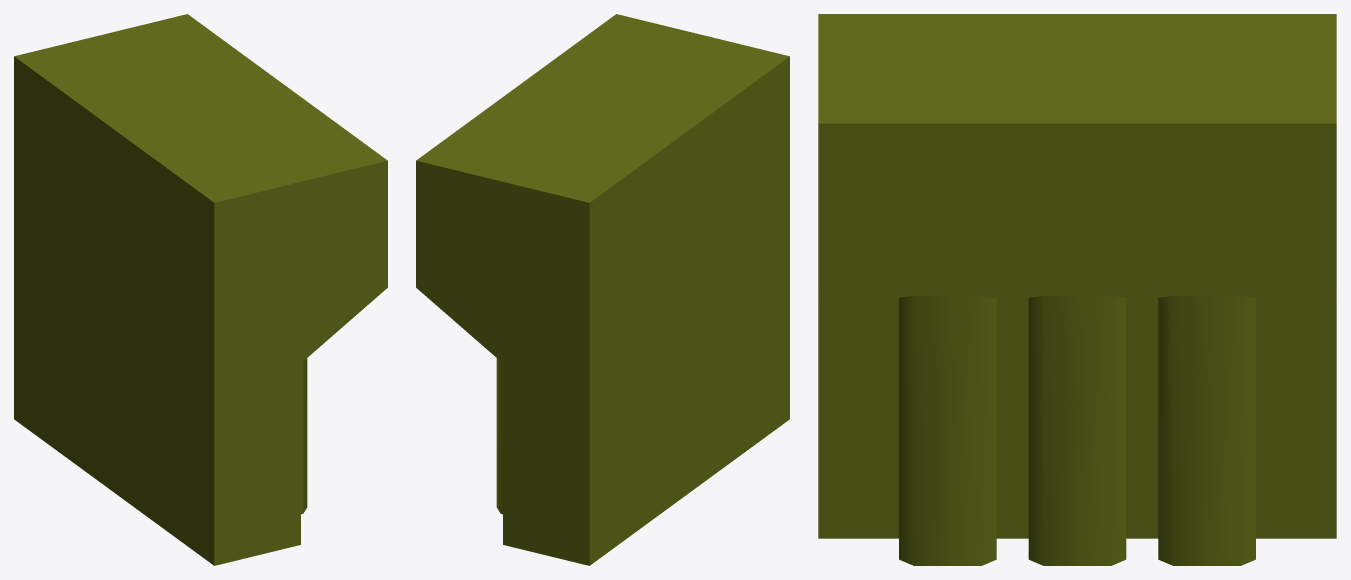
File: SkyTower1.fbx
3 renders of one model, left to right at view 1: azimuth 30°, elevation 25°; view 2: azimuth 150°, elevation 25°; view 3: azimuth 270°, elevation 25°, orthographic. The views are drawn at different scales.
Visible parts, largest first — view 1: SkyTower1; view 2: SkyTower1; view 3: SkyTower1.
Part boxes in pixels (x1,y1,x2,y2): SkyTower1: (14, 14, 387, 565); SkyTower1: (416, 14, 789, 565); SkyTower1: (818, 14, 1336, 565).
Bounding box in the file's own units: 200 × 400 × 400.
